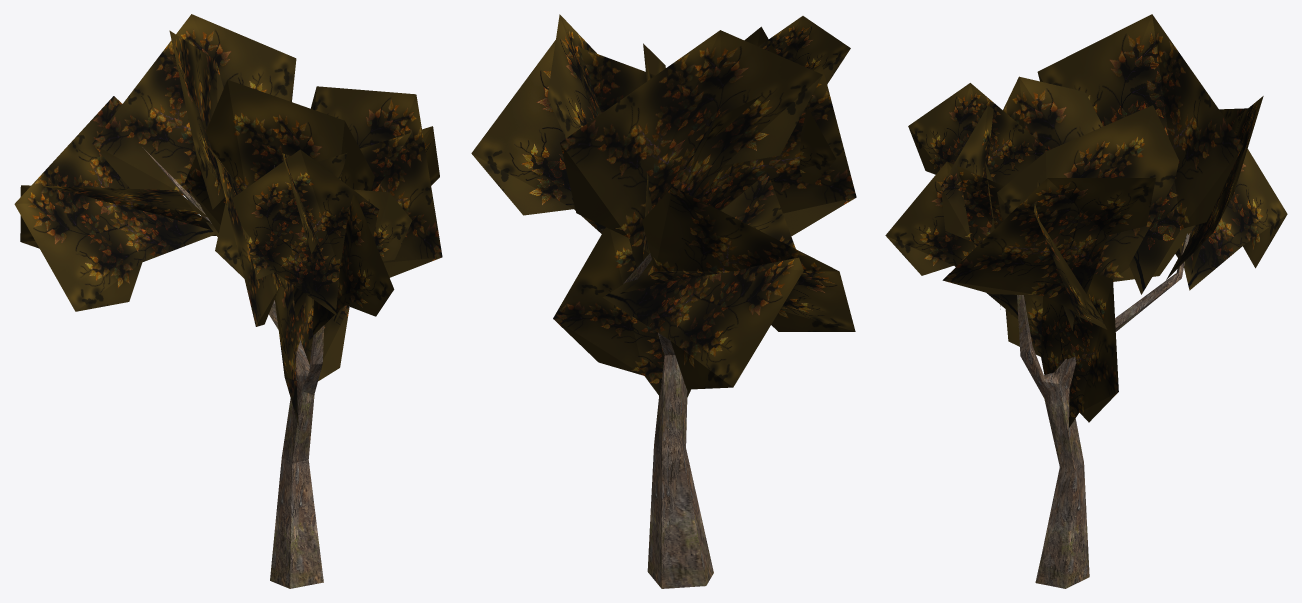
File: tree_1_lod.dae
3 views of the same model, side by side, from view 1: azimuth 30°, elevation 25°; view 2: azimuth 150°, elevation 25°; view 3: azimuth 270°, elevation 25° (orthographic). The views are drawn at different scales.
Parts seen in each view (by area): view 1: Mesh_Object; view 2: Mesh_Object; view 3: Mesh_Object.
Part boxes in pixels (x1=…): Mesh_Object: x1=14, y1=14, x2=442, y2=588; Mesh_Object: x1=471, y1=14, x2=856, y2=588; Mesh_Object: x1=885, y1=14, x2=1287, y2=588.
Bounding box in the file's own units: 4.37 × 5.94 × 4.14.
